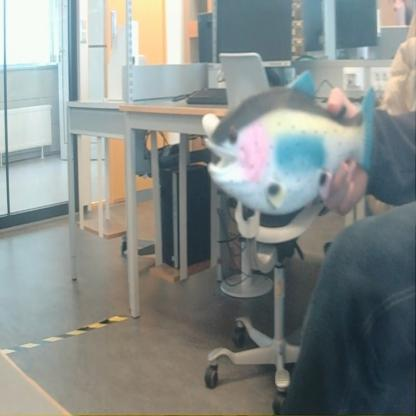rubberfish: (204, 67, 384, 220)
